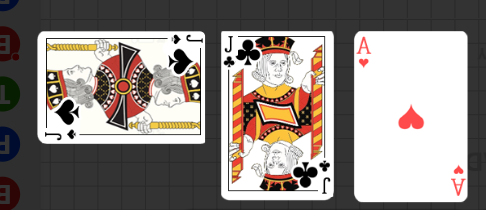7S: (44, 129, 78, 143)
AH: (357, 35, 373, 70)
JC: (222, 35, 237, 70)
